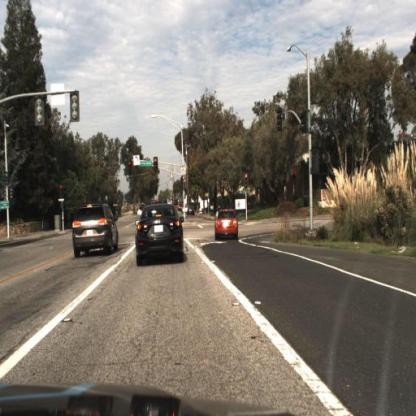car: (136, 203, 183, 264), (73, 203, 120, 257), (216, 209, 239, 245)
trafficLight-Red: (242, 171, 252, 190), (152, 154, 160, 176)
trafficLight-RedLeft: (127, 159, 133, 176)
